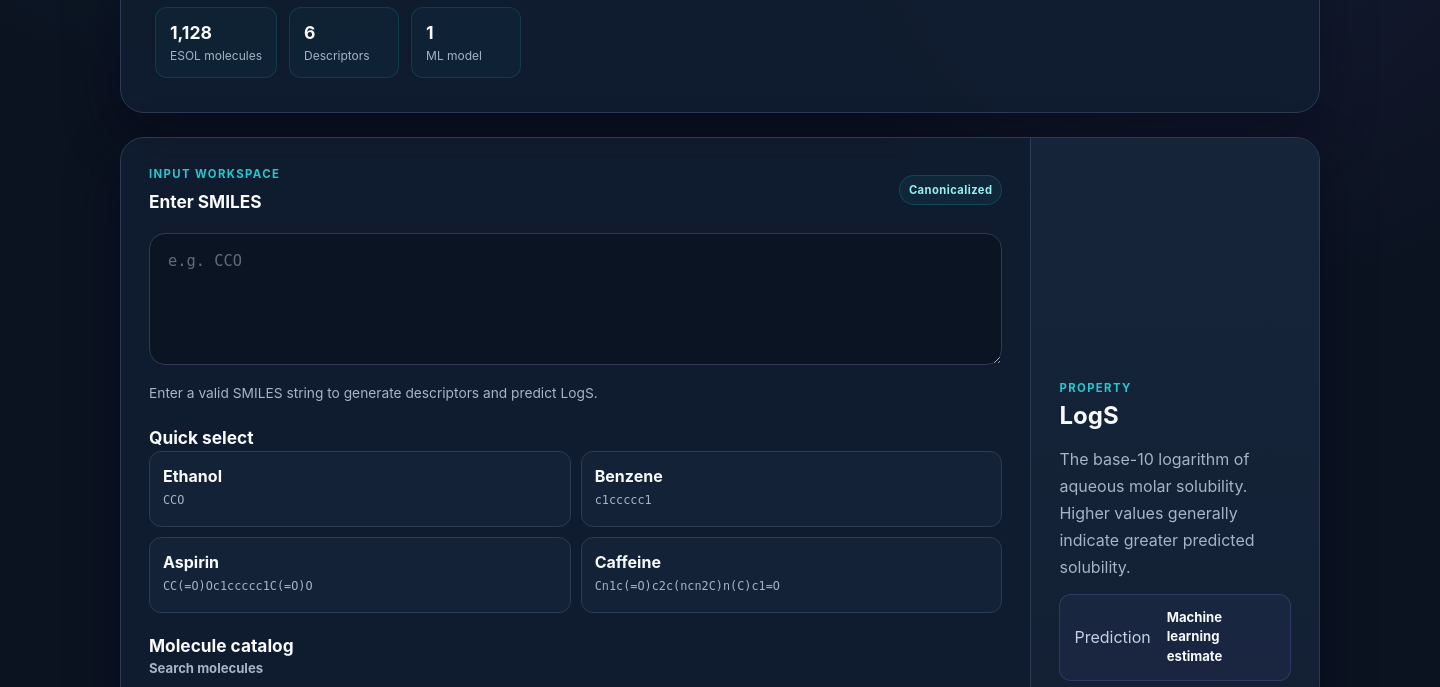
Scenario: Molecular Property Predictor › shows a request error when prediction fails
The image size is (1440, 687).
(page scrolled)
Type "invalid" into the text box named "SMILES" at (576, 298), box [149, 232, 1002, 364]
(page scrolled)
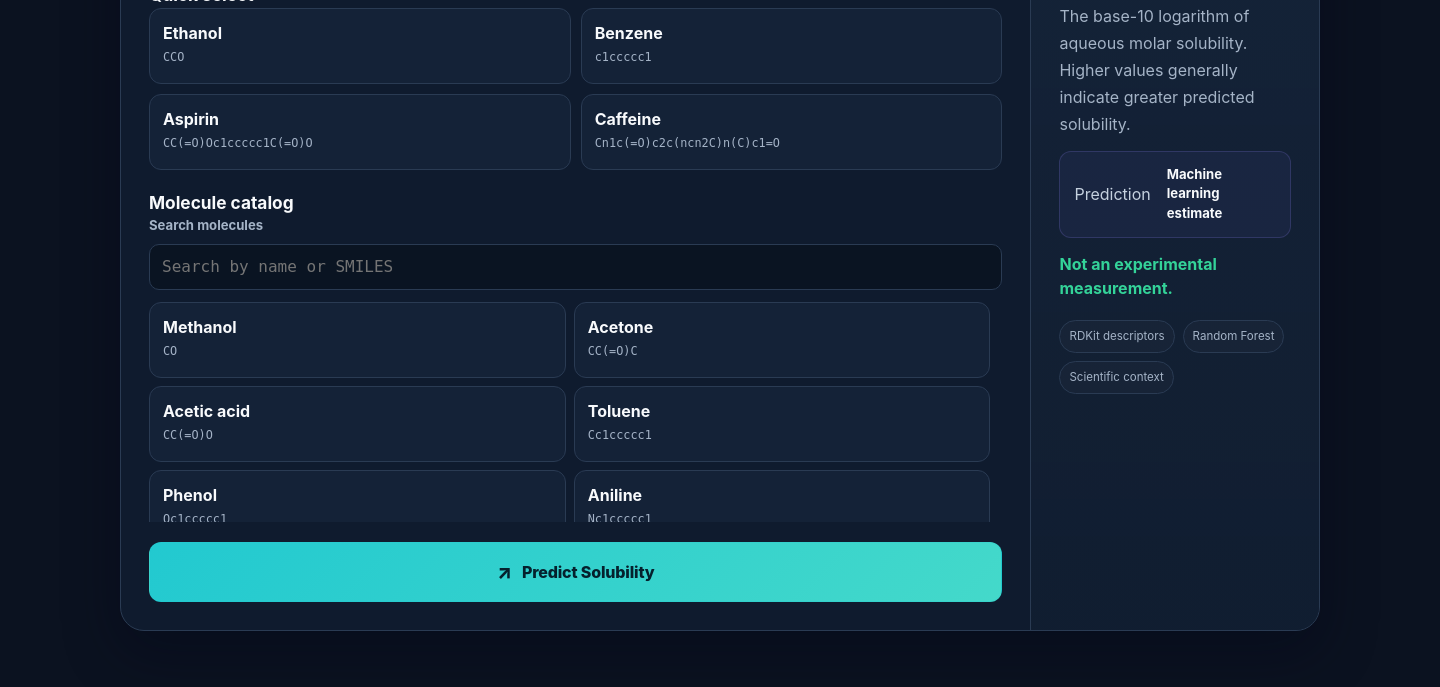
Click the button "↗ Predict Solubility" at (576, 572), box [149, 542, 1002, 602]
(page scrolled)
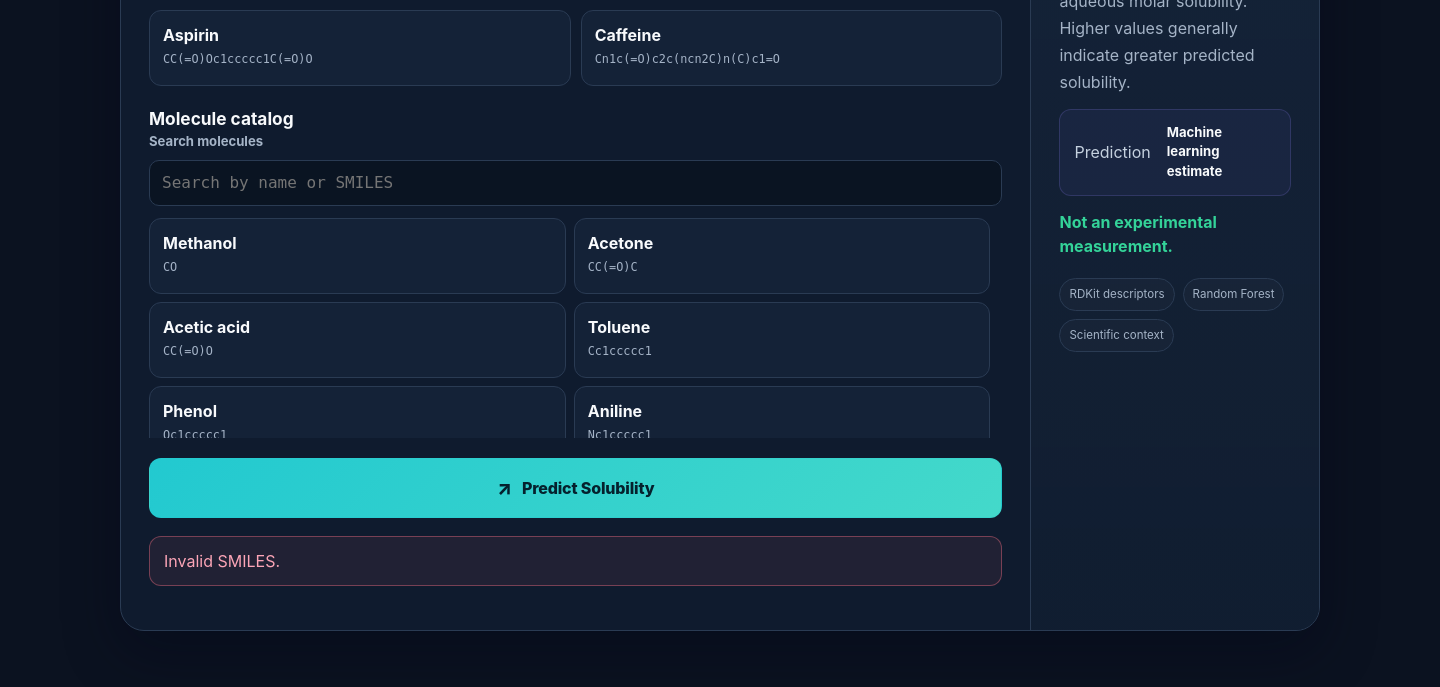
Expected: the message reads "Invalid SMILES.", [164, 552, 280, 572]
